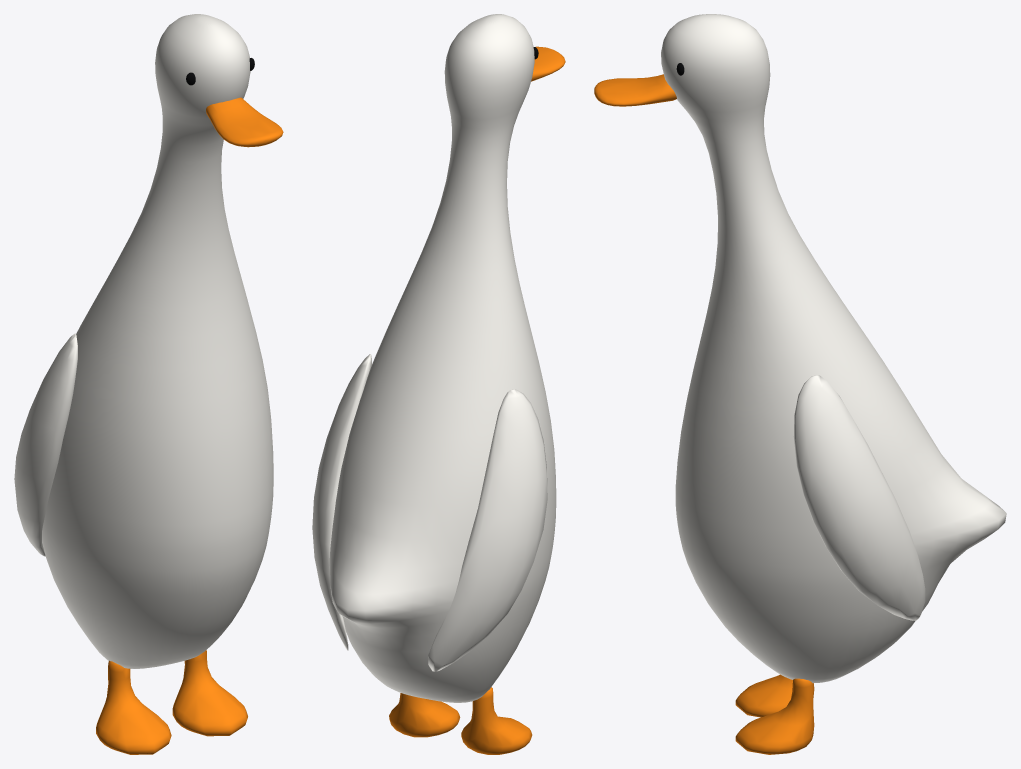
The model's file is duck-b2-master.fbx.
3 views of the same model, side by side, from view 1: azimuth 30°, elevation 25°; view 2: azimuth 150°, elevation 25°; view 3: azimuth 270°, elevation 25° (orthographic). The views are drawn at different scales.
Visible parts, largest first — view 1: duck-b2-master; view 2: duck-b2-master; view 3: duck-b2-master.
Boxes of the visible parts, left/top/right/bottom form: duck-b2-master: left=14, top=14, right=283, bottom=754; duck-b2-master: left=312, top=14, right=565, bottom=754; duck-b2-master: left=594, top=14, right=1006, bottom=754.
Size of the model in its own units: 32.69 by 100 by 52.59.
Materials: 1 (1 with a texture image).
